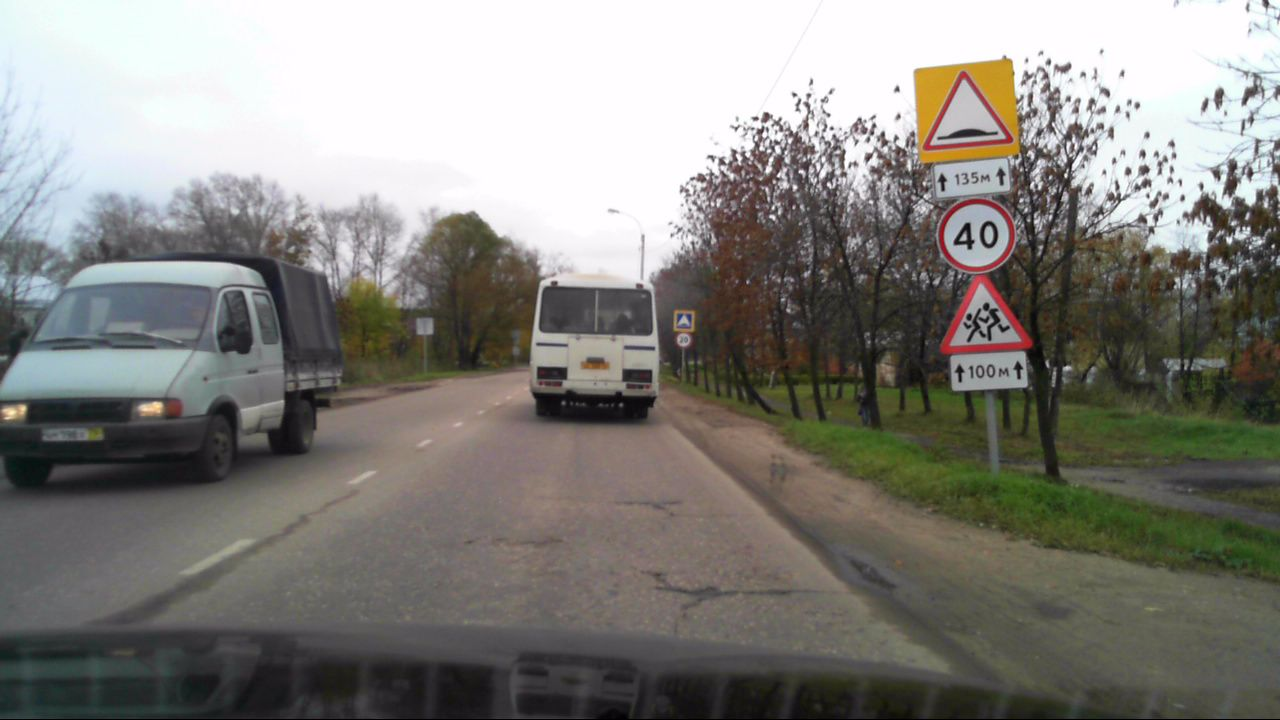speed_warning_40: (936, 198, 1015, 274)
